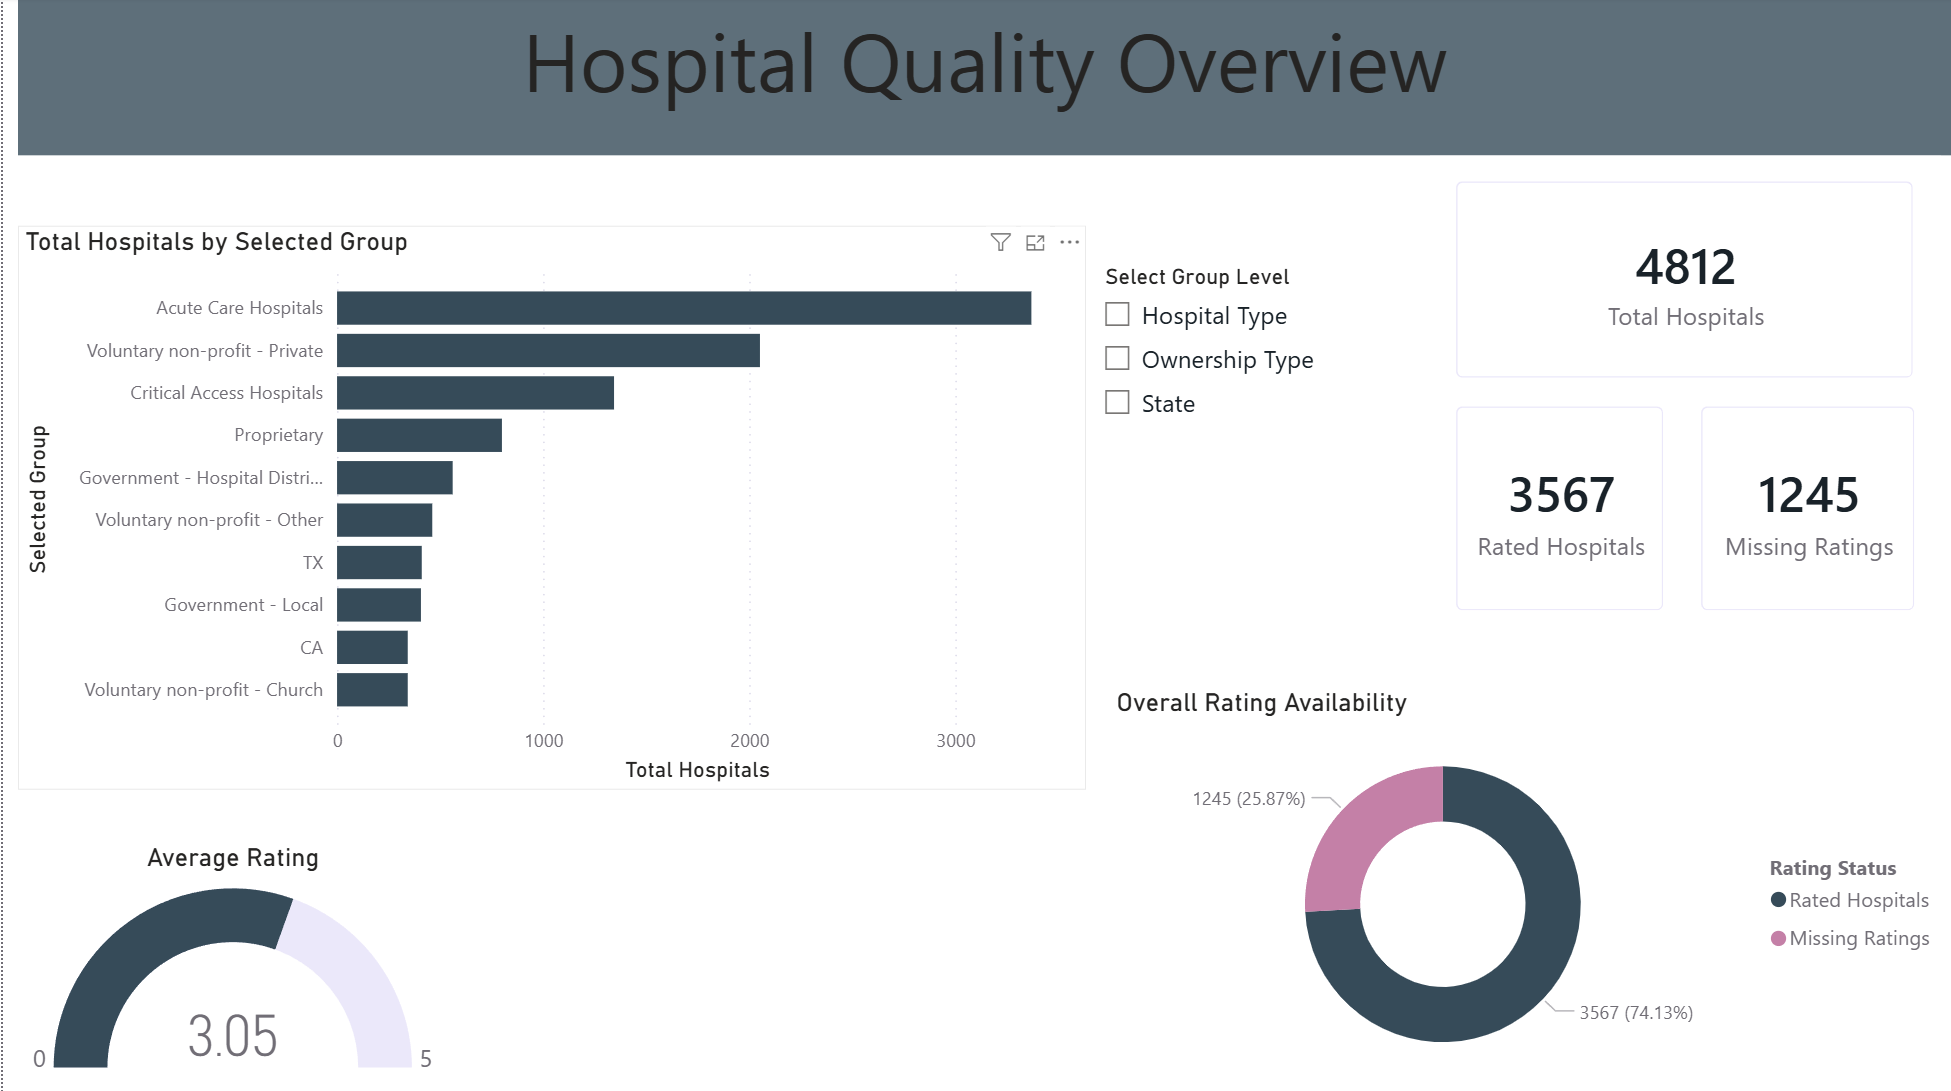

This screenshot's page, from the dashboard's own definition file:
{"tool":"powerbi","page":{"name":"Overview","canvas":[1280,720],"ordinal":0},"visuals":[{"type":"textbox","box":[9.9,0,1270.4,104.3],"z":0},{"type":"cardVisual","fields":{"Data":["Sum(State Summary.total_hospitals)"]},"box":[937.8,104.4,335,163.4],"z":1000},{"type":"cardVisual","fields":{"Data":["Sum(State Summary.rated_hospitals)"]},"box":[937.8,252.1,170.8,168.3],"z":2000},{"type":"cardVisual","fields":{"Data":["Sum(State Summary.missing_ratings)"]},"box":[1098.7,252.1,174.1,168.3],"z":3000},{"type":"slicer","fields":{"Values":["Overview Group Counts.group_level"]},"box":[711.4,170.1,168.3,120.5],"z":4000},{"type":"clusteredBarChart","title":"Total Hospitals by Selected Group","fields":{"Category":["Overview Group Counts.group_name"],"Y":["Sum(Overview Group Counts.total_hospitals)"]},"box":[9.7,150.6,701.7,370.3],"z":5000},{"type":"gauge","title":"Average Rating","fields":{"Y":["Avg(State Summary.avg_rating)"],"MaxValue":["Hospital Type Quality Domains.Gauge Max"],"MinValue":["Hospital Type Quality Domains.Gauge Min"]},"box":[9.7,555.5,282.6,164.8],"z":6000},{"type":"donutChart","title":"Overall Rating Availability","fields":{"Y":["Sum(Rating_Availability.Hospital Count)"],"Category":["Rating_Availability.Rating Status"]},"box":[726.5,453.6,553.7,266.7],"z":7000}]}

Visuals, with their boxes in screenshot pixels (x1, y1, x2, y2), scaled from the page's 1280x720 canvas onto the 1951x1091 screenshot:
textbox: Rect(15, 0, 1950, 158)
cardVisual - Sum(State Summary.total_hospitals): Rect(1429, 158, 1940, 406)
cardVisual - Sum(State Summary.rated_hospitals): Rect(1429, 382, 1690, 637)
cardVisual - Sum(State Summary.missing_ratings): Rect(1675, 382, 1940, 637)
slicer - Overview Group Counts.group_level: Rect(1084, 258, 1341, 440)
"Total Hospitals by Selected Group" clusteredBarChart: Rect(15, 228, 1084, 789)
"Average Rating" gauge: Rect(15, 842, 446, 1090)
"Overall Rating Availability" donutChart: Rect(1107, 687, 1950, 1090)
